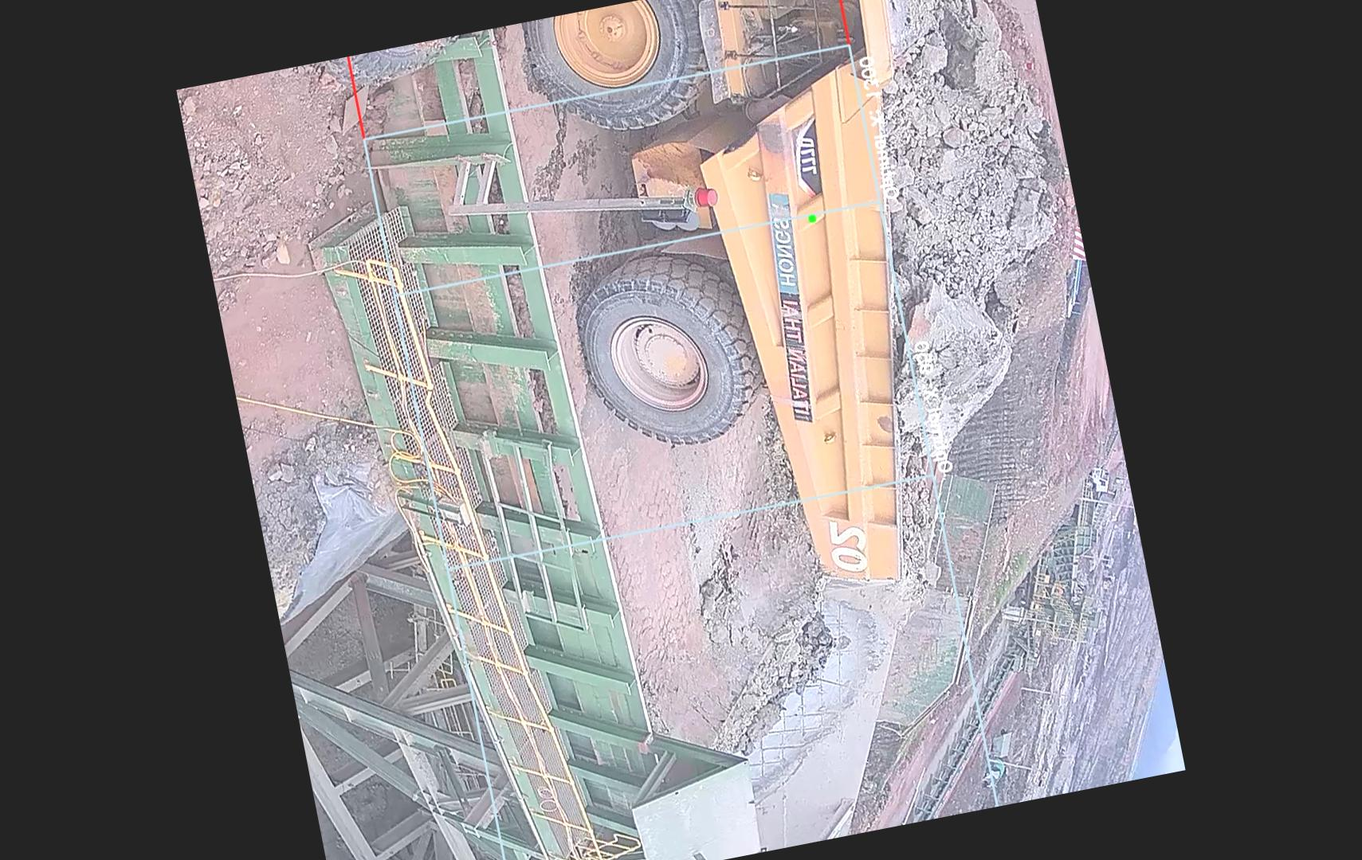company: (751, 177, 838, 430)
full_load: (846, 29, 1098, 405)
mining_truck: (520, 0, 1138, 640)
tail_number: (808, 500, 883, 587)
truck_size: (782, 109, 836, 200)
